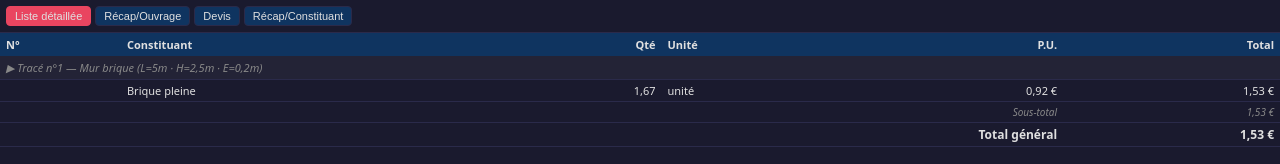
Scenario: ChiffrageFloat › Devis tab › Should label the overall total "Total" instead of "Total général"
Click the button "Devis" at [217, 16], box [194,6,240,26]
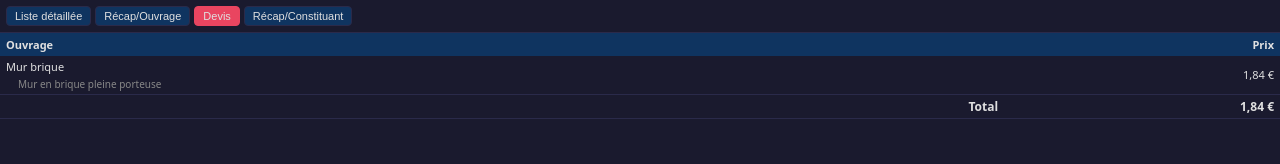
Expected: the element with test id "devis-panel" shows "Total", [968,98,998,115]
Expected: the cell with test id "devis-panel" no longer shows "Total général"
